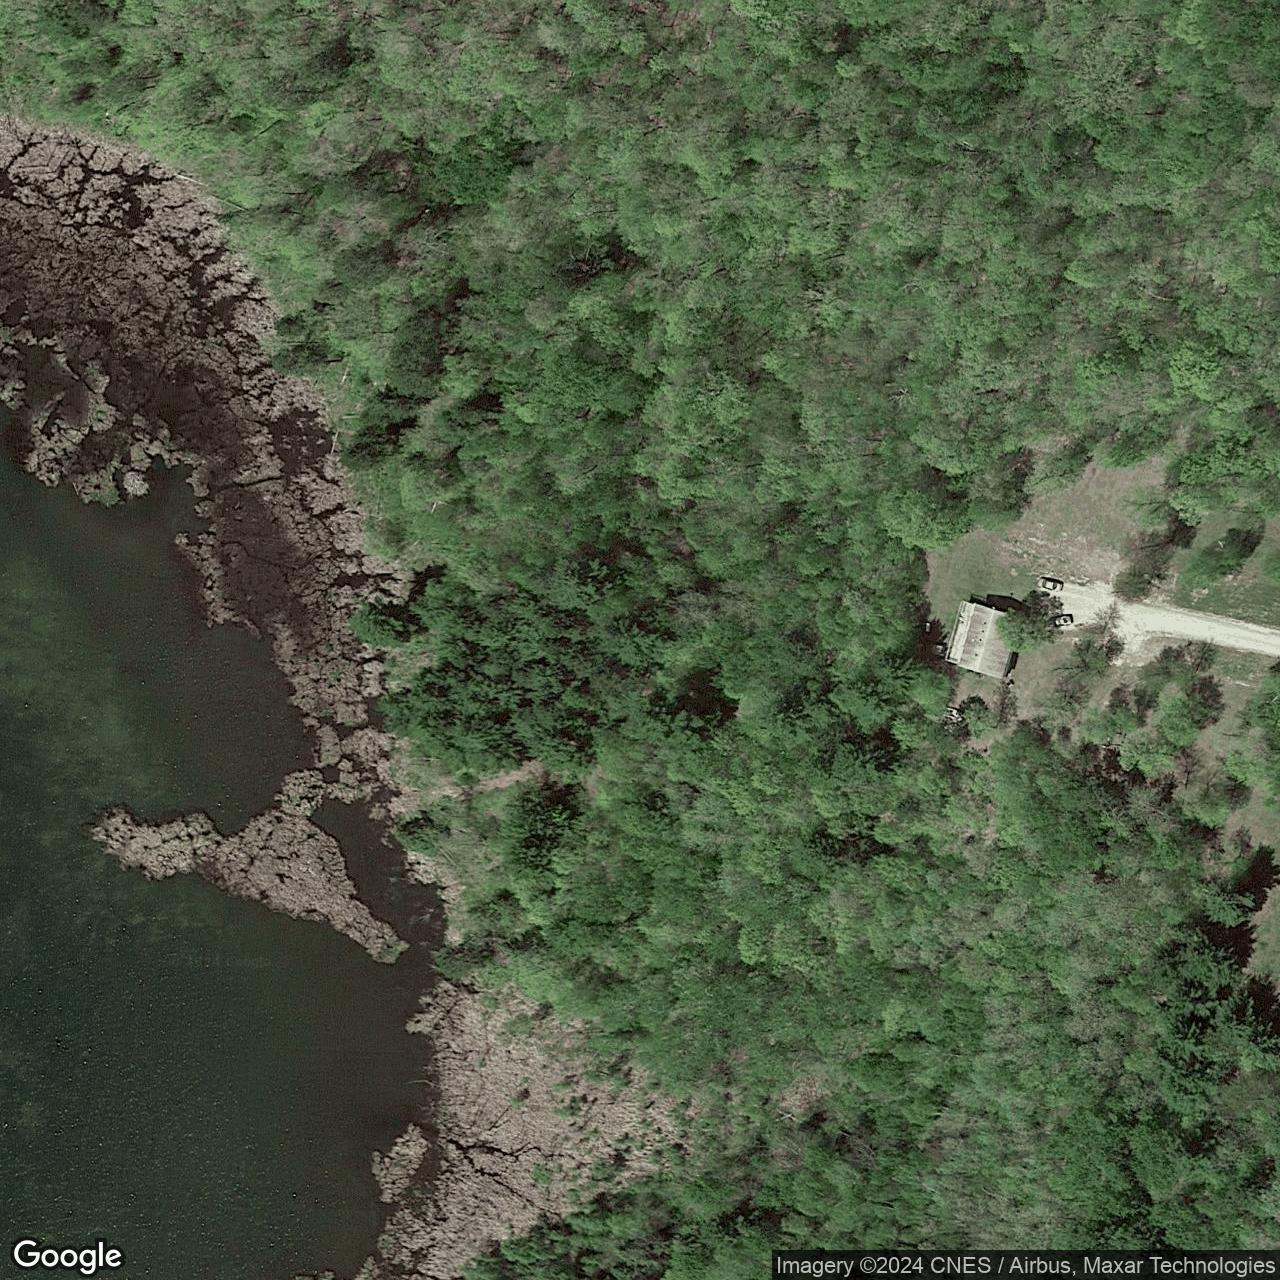House: (947, 601, 1023, 680)
Propane: (925, 620, 932, 635)
